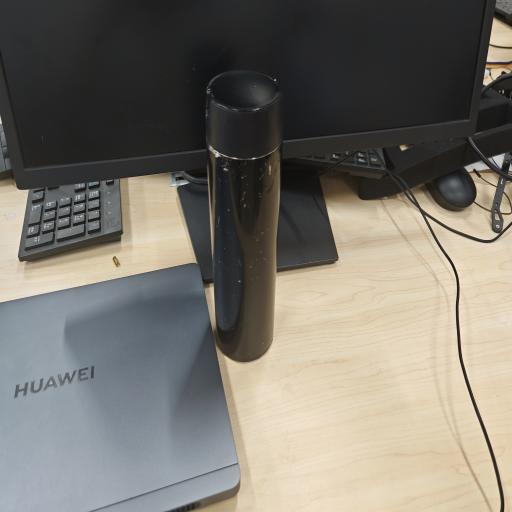laptop: (0, 264, 240, 512)
mouse: (426, 168, 476, 211)
